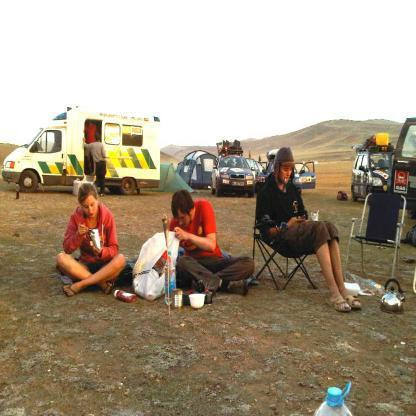Ambulance - v1 Ambulance last generate: (0, 104, 159, 195)
